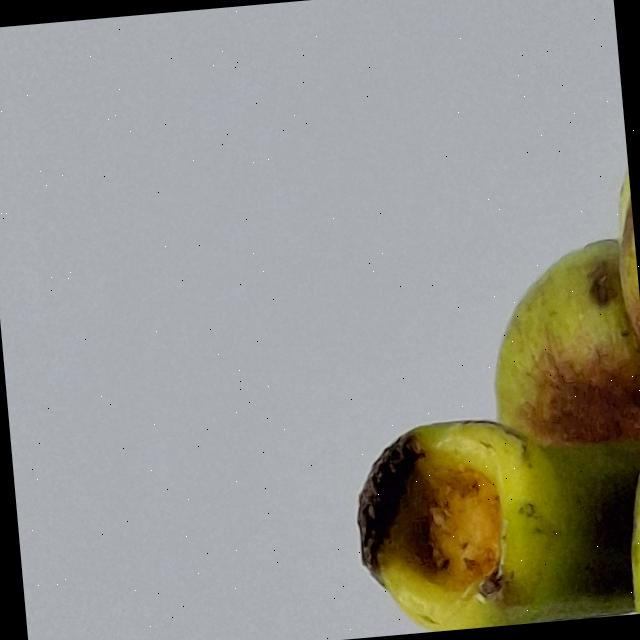mangosteen: (282, 0, 640, 639)
